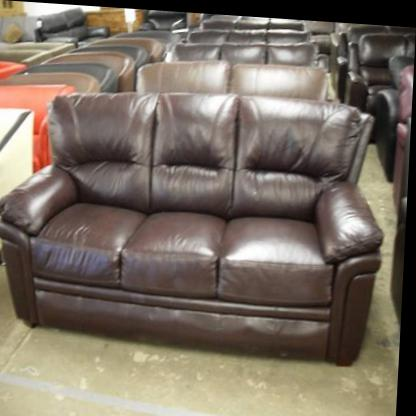Sofa: (0, 76, 390, 374)
